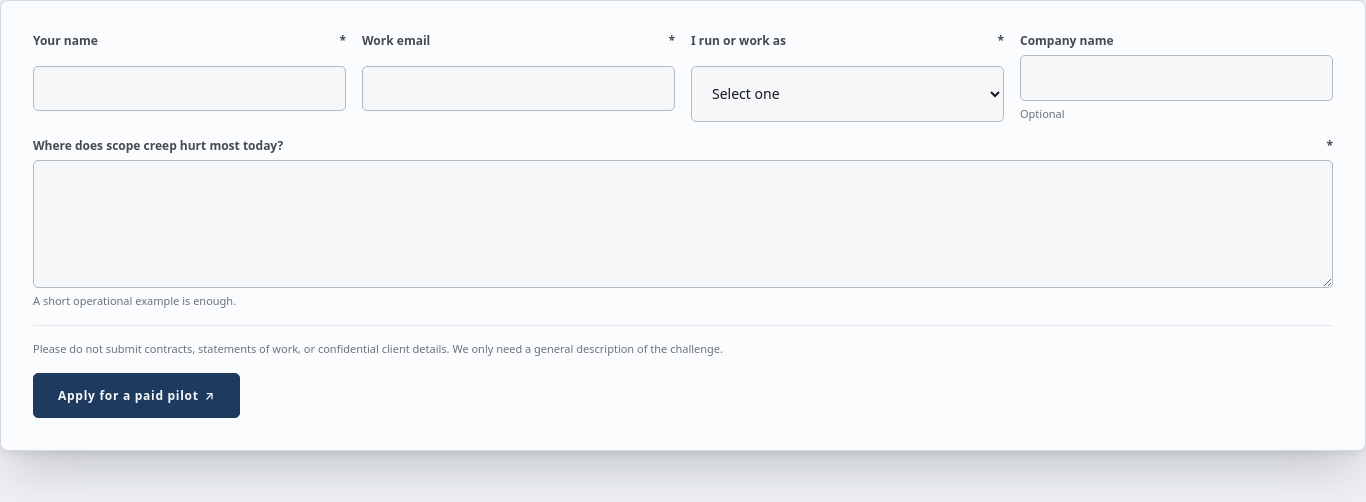
LeadForm › submits once and clears fields only after success
The image size is (1366, 502).
Type "  Alex Rivera  " into the field labelled "Your name *" at (190, 88), box top-left (33, 66), bottom-right (346, 111)
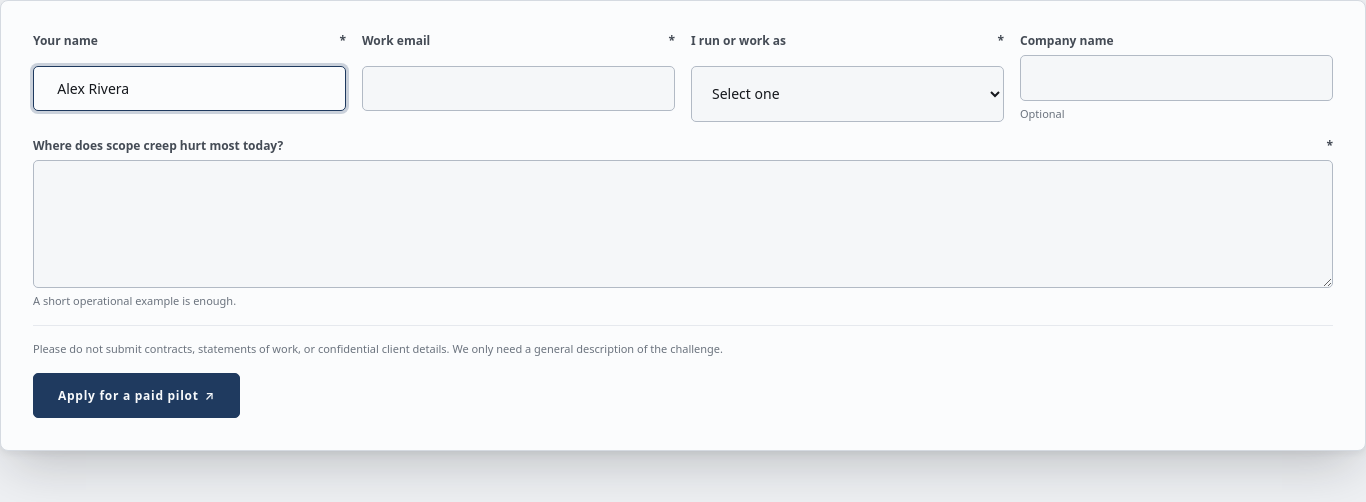
Type "Alex@Example.com" into the field labelled "Work email *" at (518, 88), box top-left (362, 66), bottom-right (675, 111)
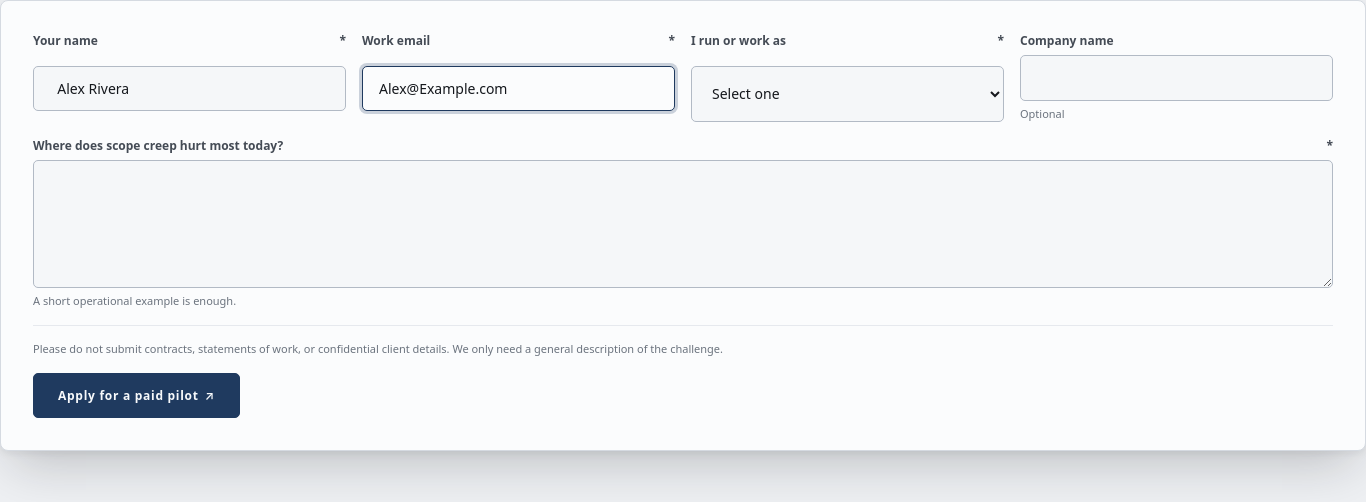
Select "A software agency" in the dropdown labelled "I run or work as *" at (848, 94), box top-left (691, 66), bottom-right (1004, 122)
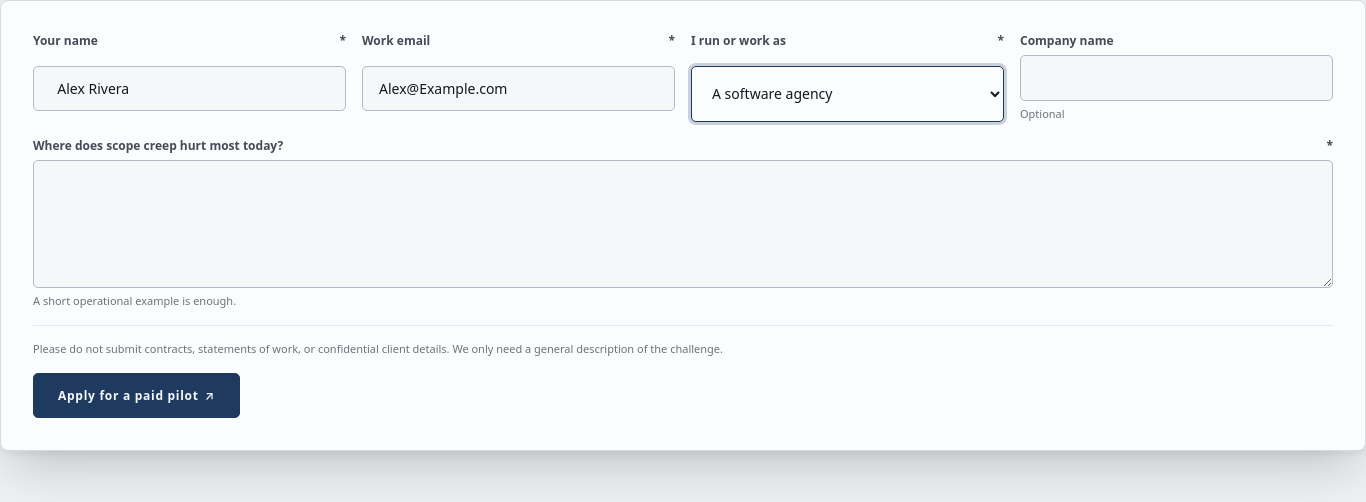
Type "River Studio" into the field labelled "Company name" at (1176, 78), box top-left (1020, 55), bottom-right (1333, 101)
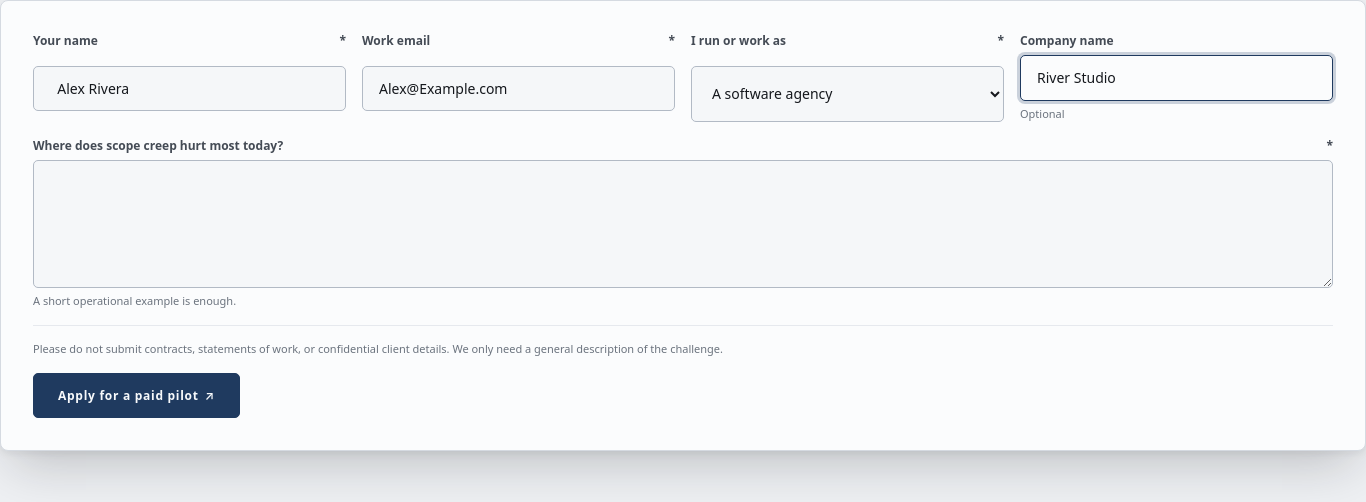
Type "Requests arrive in chat and get built before the commercial conversation." into the text box labelled "Where does scope creep hurt most today? *" at (683, 224), box top-left (33, 160), bottom-right (1333, 288)
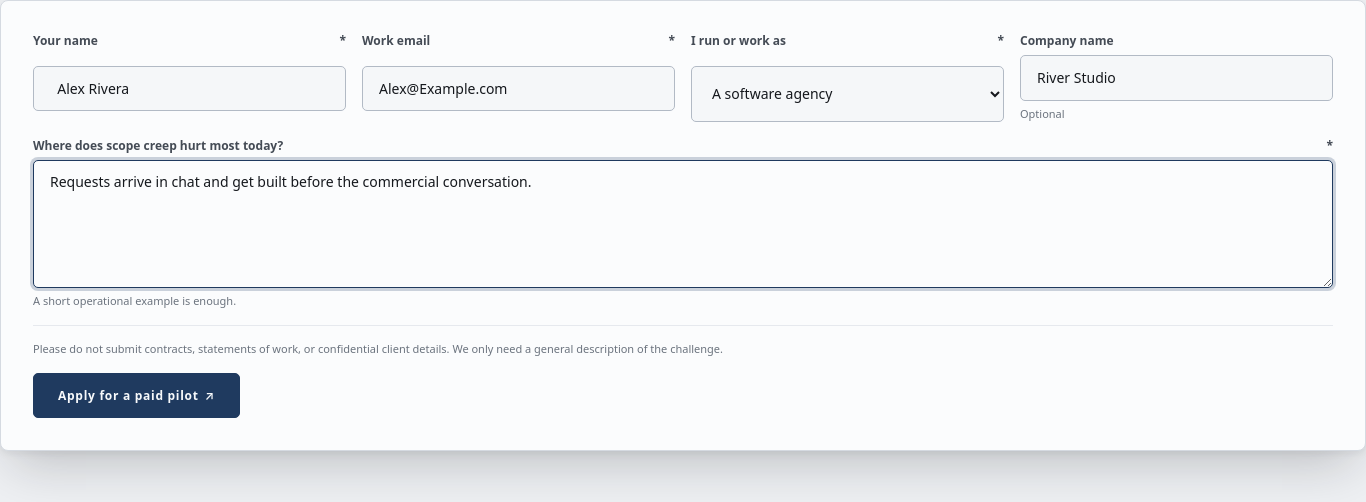
Click the button "Apply for a paid pilot ↗" at (136, 395), box top-left (33, 372), bottom-right (240, 418)
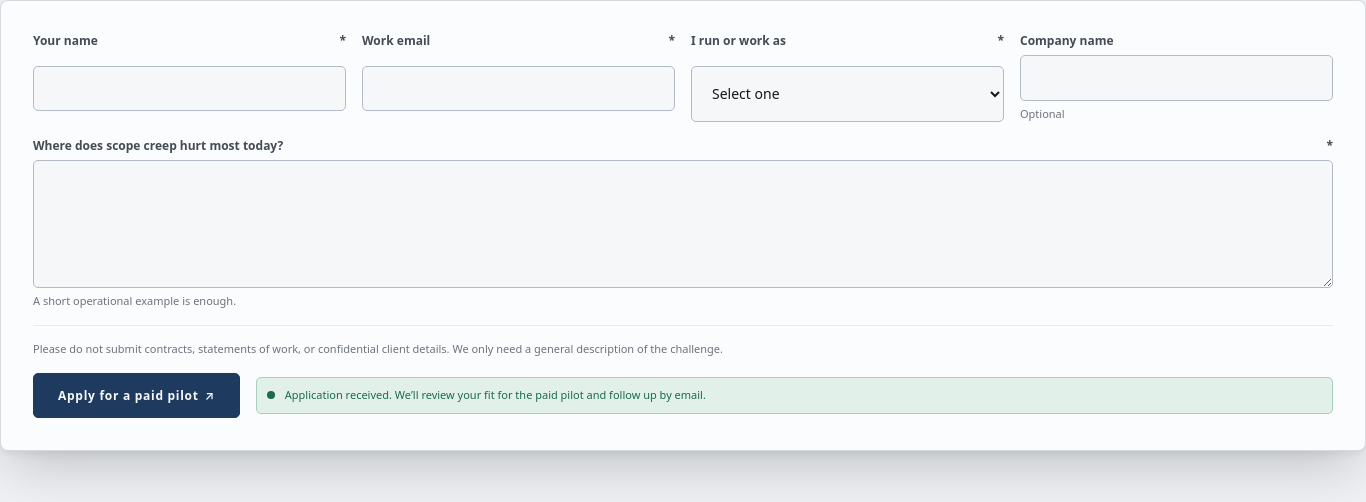
Check: the text "Application received" is shown, box top-left (285, 387), bottom-right (706, 402)
Check: the field labelled "Your name *" is empty, box top-left (33, 66), bottom-right (346, 111)
Check: the text box labelled "Where does scope creep hurt most today? *" is empty, box top-left (33, 160), bottom-right (1333, 288)
